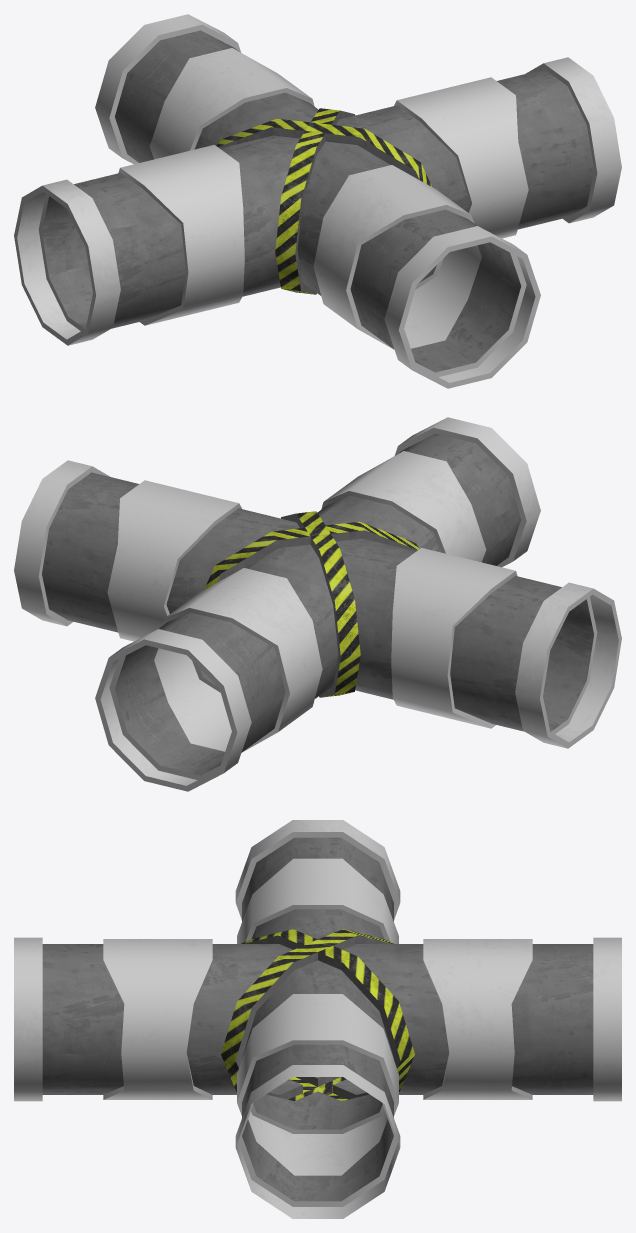
File: Pipe X.fbx
3 renders of one model, top to bottom at view 1: azimuth 30°, elevation 25°; view 2: azimuth 150°, elevation 25°; view 3: azimuth 270°, elevation 25°, orthographic.
Visible parts, largest first — view 1: NurbsPath.002; view 2: NurbsPath.002; view 3: NurbsPath.002.
Boxes of the visible parts, x1,y1,x2,y2 form: NurbsPath.002: (14,14,621,388); NurbsPath.002: (14,417,621,791); NurbsPath.002: (14,820,621,1218).
Bounding box in the file's own units: 200 × 53.55 × 200.
Materials: 1 (1 with a texture image).
